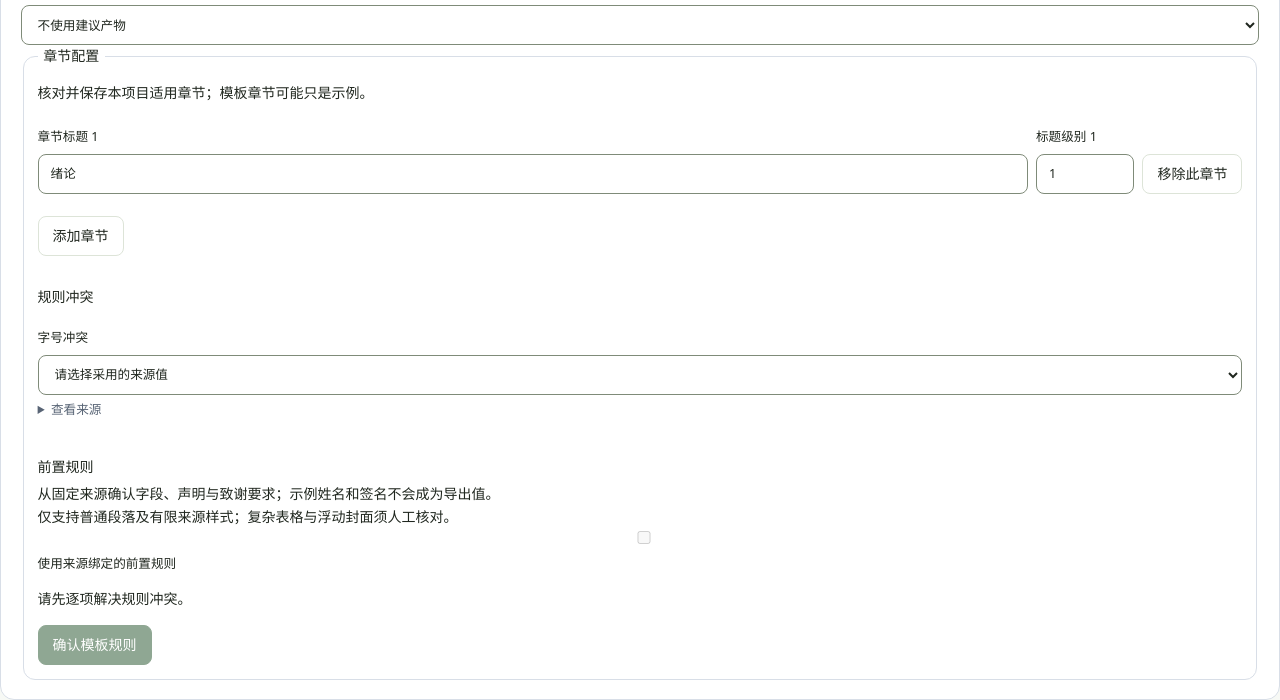
Test case: blocks confirmation until at least one applicable chapter exists
(page scrolled)
Step 1. Select "小四 · 小四" in the dropdown labelled "字号冲突" → (640, 375), box [38,355,1242,395]
(page scrolled)
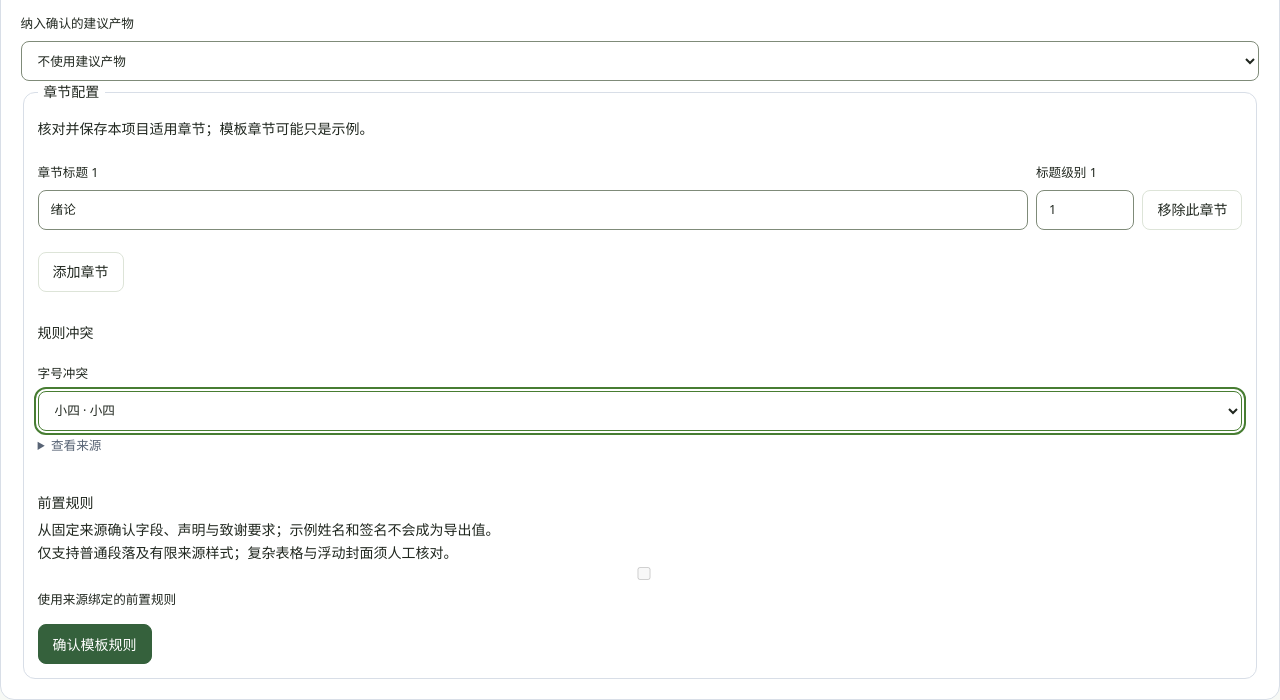
Step 2. Click the button "移除此章节" → (1192, 210), box [1142,190,1242,230]
(page scrolled)
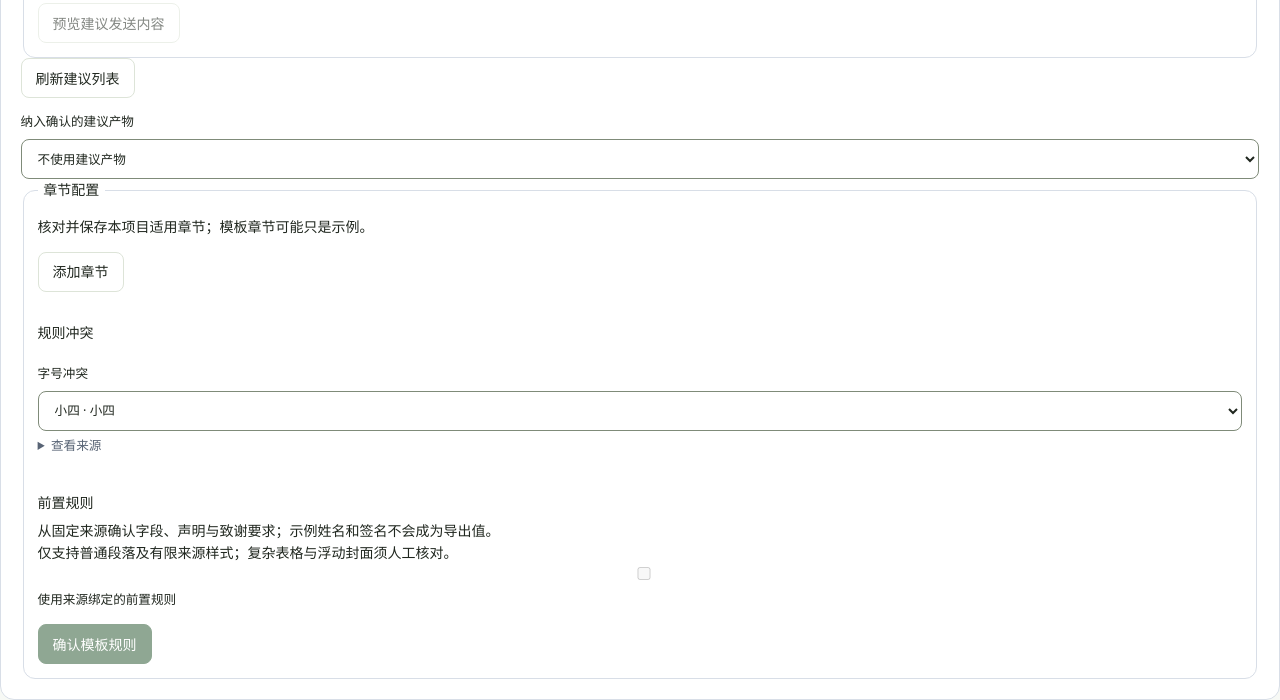
Now the button "确认模板规则" is disabled, box [38,624,152,664]
